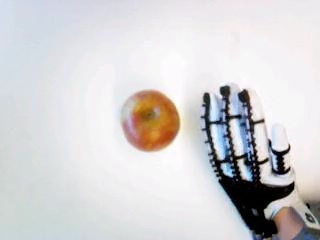apple: (120, 88, 180, 151)
hand: (202, 86, 298, 239)
